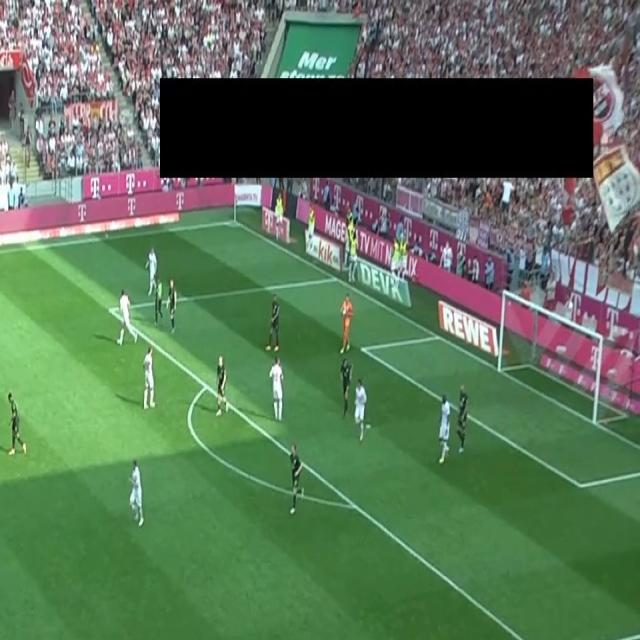ball: (341, 308, 347, 317)
